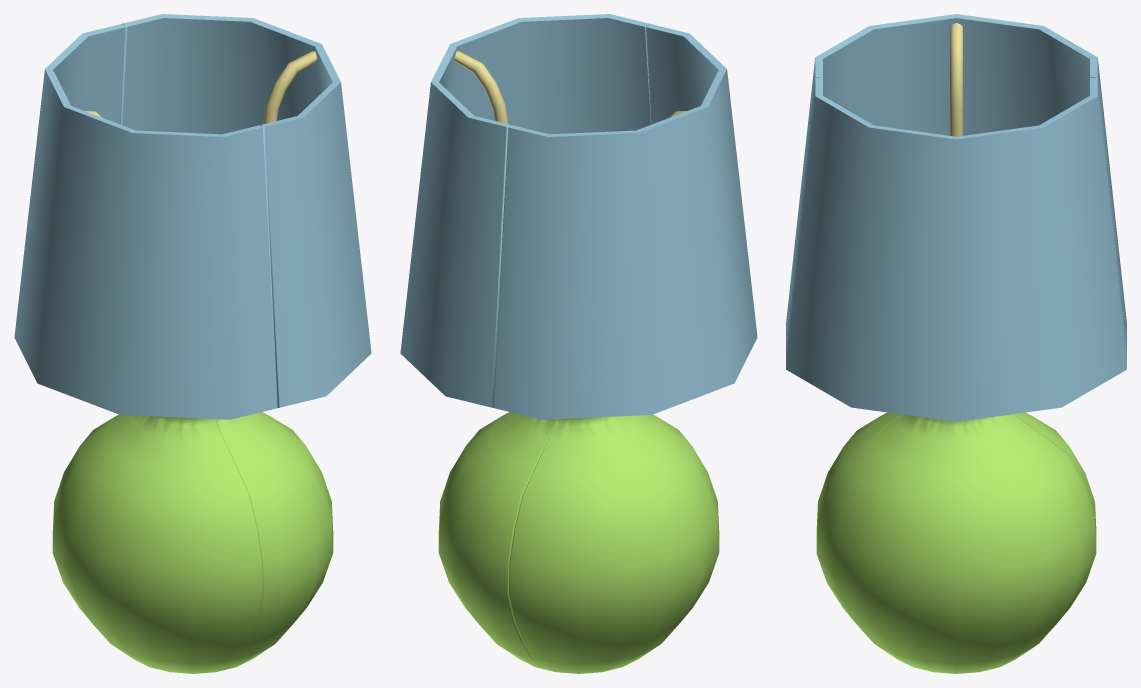
File: SM_Lamp_02a.fbx
The picture shows the model from 3 angles, left to right: view 1: azimuth 30°, elevation 25°; view 2: azimuth 150°, elevation 25°; view 3: azimuth 270°, elevation 25°; orthographic projection.
Visible parts, largest first — view 1: Lamp_02, Lamp_01; view 2: Lamp_02, Lamp_01; view 3: Lamp_01, Lamp_02.
Part boxes in pixels (x1,y1,x2,y2): Lamp_02: (14, 24, 278, 673); Lamp_01: (120, 14, 371, 669); Lamp_02: (493, 24, 757, 673); Lamp_01: (400, 14, 651, 669); Lamp_01: (786, 76, 1126, 673); Lamp_02: (786, 14, 1126, 536).
Size of the model in its own units: 29.59 by 51.79 by 28.14.
